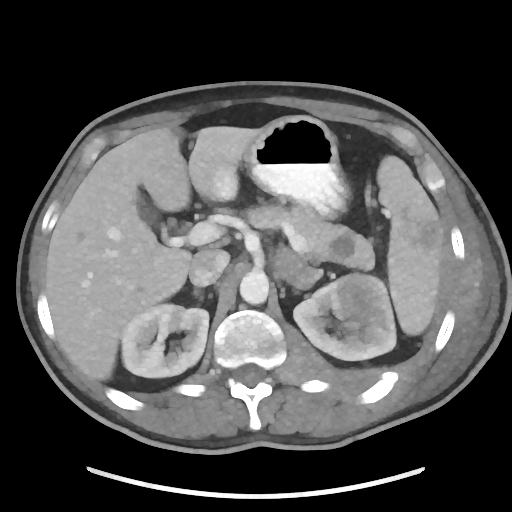Lesion: (330, 276, 394, 343)
